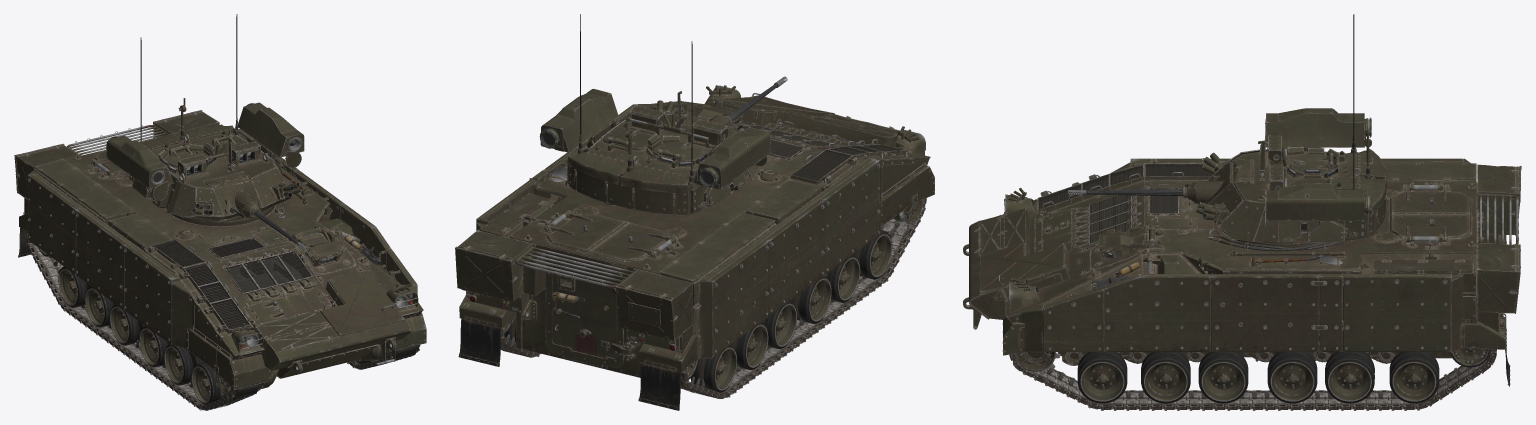
Rendered from desert_warrior_ifv_war_thunder_seek__destroy.glb.
3 renders of one model, left to right at view 1: azimuth 30°, elevation 25°; view 2: azimuth 150°, elevation 25°; view 3: azimuth 270°, elevation 25°, orthographic. The views are drawn at different scales.
Visible parts, largest first — view 1: Object_25, Object_30, Object_32, Object_18, Object_31, Object_24, Object_34, Object_27, Object_4, Object_19, Object_29, Object_20 (+8 smaller); view 2: Object_32, Object_25, Object_30, Object_22, Object_31, Object_19, Object_29, Object_18, Object_27, Object_20, Object_4, Object_24 (+5 smaller); view 3: Object_31, Object_25, Object_29, Object_30, Object_18, Object_32, Object_21, Object_7, Object_22, Object_28, Object_19, Object_24 (+5 smaller).
Part boxes in pixels (box(x1,y1,x2,y2)): Object_25: box(65, 129, 423, 388); Object_30: box(75, 124, 405, 352); Object_32: box(14, 125, 417, 365); Object_18: box(129, 118, 301, 222); Object_31: box(18, 124, 426, 389); Object_24: box(74, 129, 409, 387); Object_34: box(154, 238, 311, 329); Object_27: box(28, 170, 225, 405); Object_4: box(25, 230, 261, 410); Object_19: box(106, 98, 233, 208); Object_29: box(153, 110, 327, 338); Object_20: box(165, 102, 304, 190); Object_32: box(515, 101, 882, 357); Object_25: box(509, 97, 930, 377); Object_30: box(479, 93, 915, 316); Object_22: box(545, 104, 861, 368); Object_31: box(458, 85, 934, 410); Object_19: box(566, 91, 770, 215); Object_29: box(455, 117, 896, 313); Object_18: box(567, 100, 770, 215); Object_27: box(697, 230, 892, 369); Object_20: box(540, 88, 703, 161); Object_4: box(680, 198, 926, 398); Object_24: box(509, 100, 908, 376); Object_31: box(1002, 184, 1510, 386); Object_25: box(963, 158, 1483, 365); Object_29: box(1003, 207, 1520, 403); Object_30: box(974, 158, 1472, 351); Object_18: box(1196, 135, 1373, 244); Object_32: box(973, 158, 1521, 352); Object_21: box(1064, 345, 1395, 403); Object_7: box(1009, 321, 1496, 410); Object_22: box(1042, 184, 1483, 269); Object_28: box(1011, 348, 1490, 403); Object_19: box(1258, 108, 1388, 236); Object_24: box(969, 161, 1483, 365).
Bounding box in the file's own units: 3.42 × 4.28 × 6.72.
Materials: 20 (20 with a texture image).
